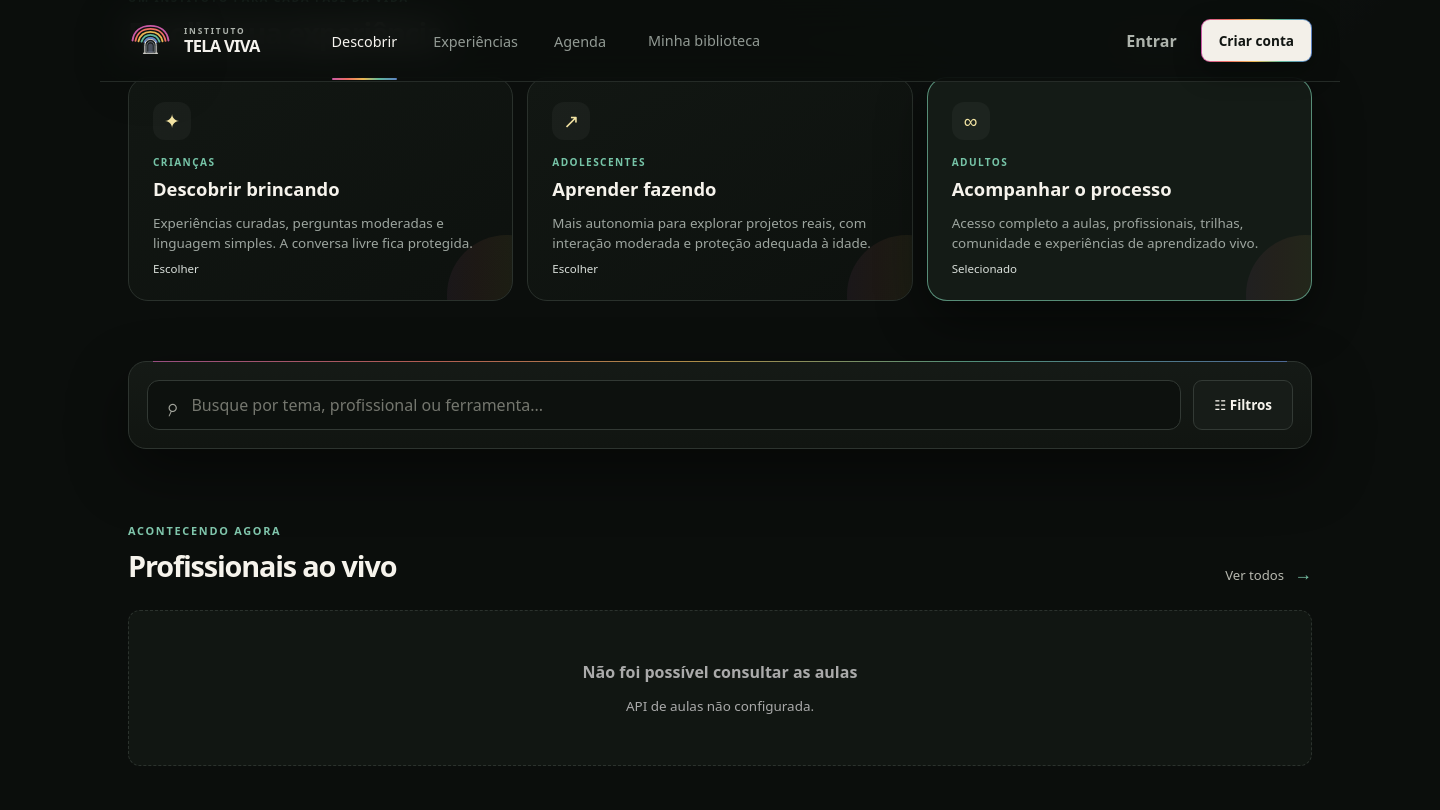
Test: Instituto Tela Viva › mantém filtros disponíveis sem inventar resultados
This screenshot has width=1440, height=810.
(page scrolled)
In the field with placeholder "Busque por tema, profissional ou ferramenta...": (677, 405) [192,381,1163,429], type "Figma"
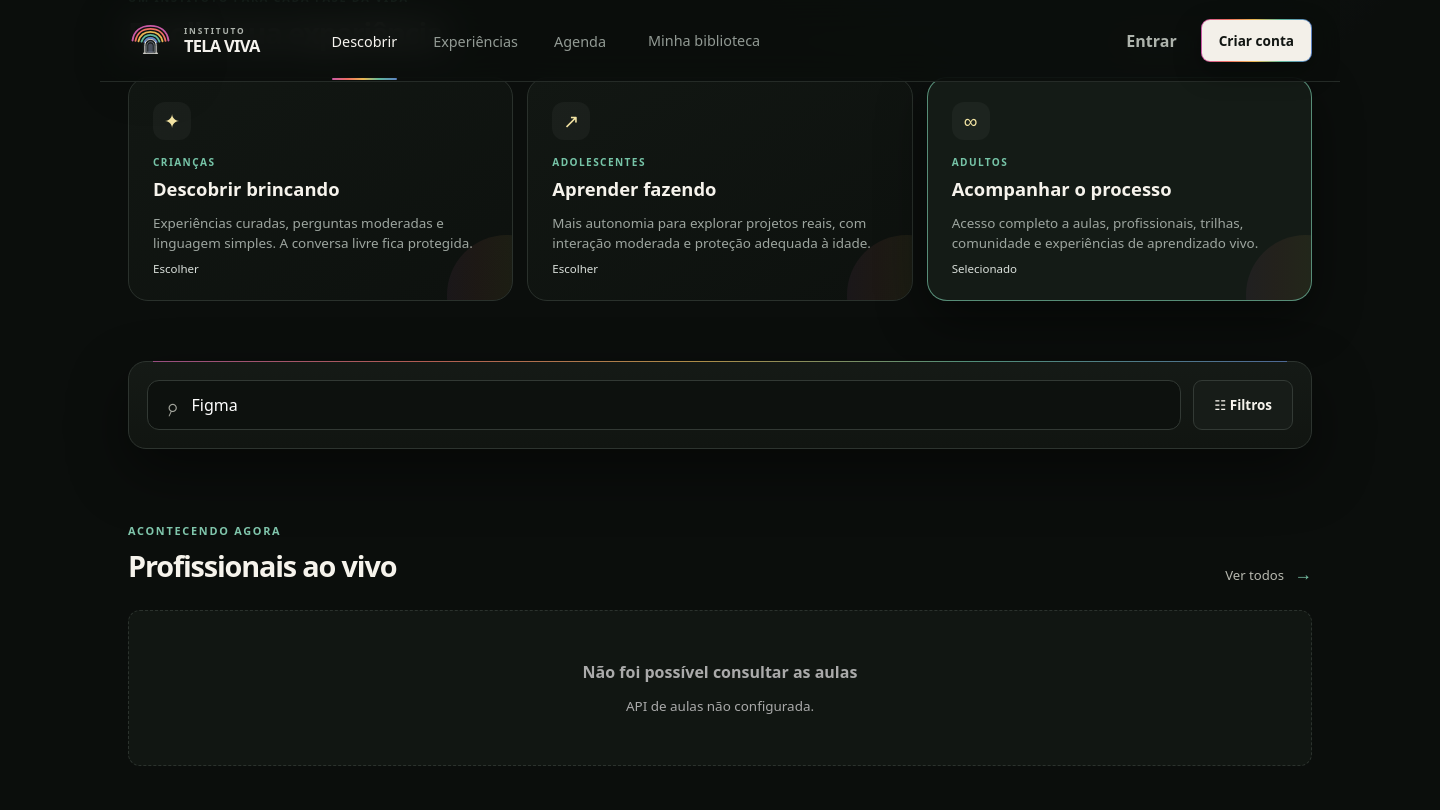
Click the button "☷ Filtros": (1243, 405) [1193,380,1293,430]
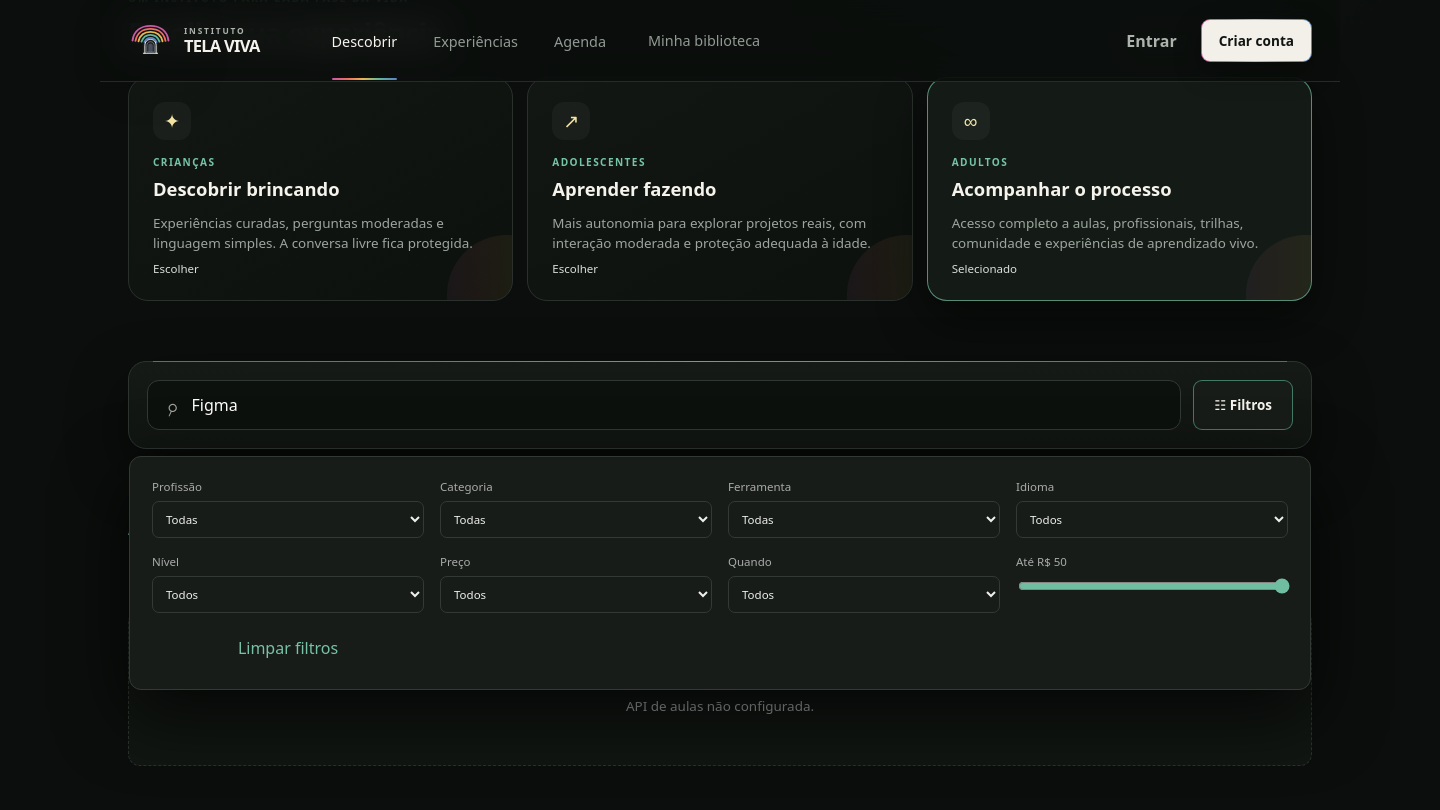
Result: the dropdown labelled "Profissão" shows "Todas" at [152,501,424,538]
Result: the dropdown labelled "Ferramenta" shows "Todas" at [728,501,1000,538]
